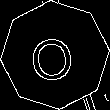O_N: (31, 28, 79, 82)
